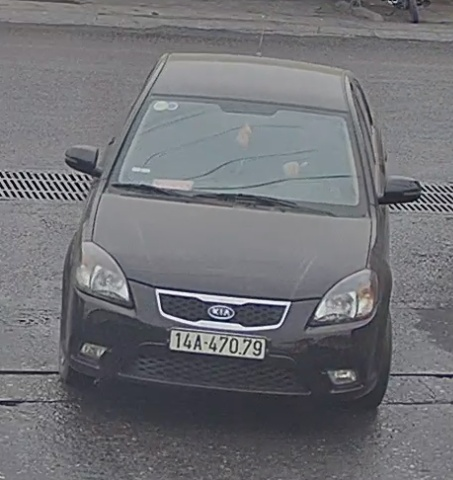vehicle plate: (170, 325, 271, 364)
